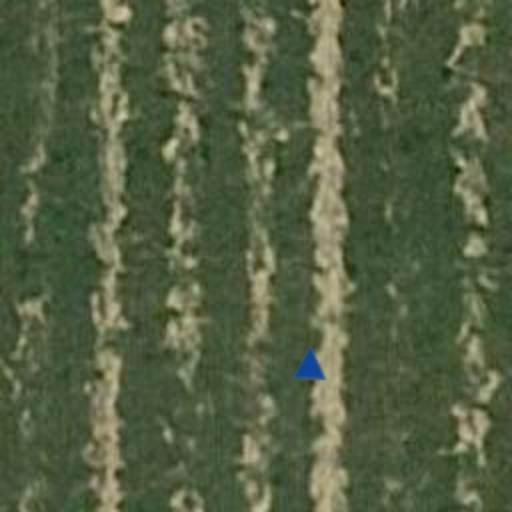triangle: (292, 344, 328, 380)
